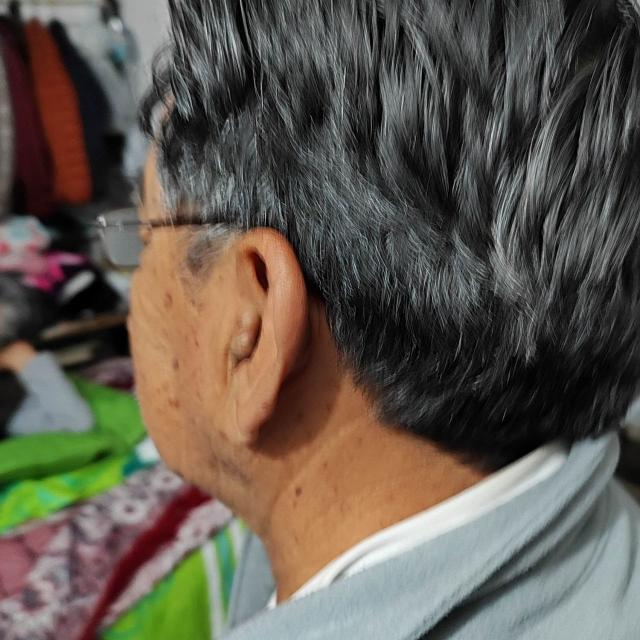ear: (222, 228, 306, 445)
